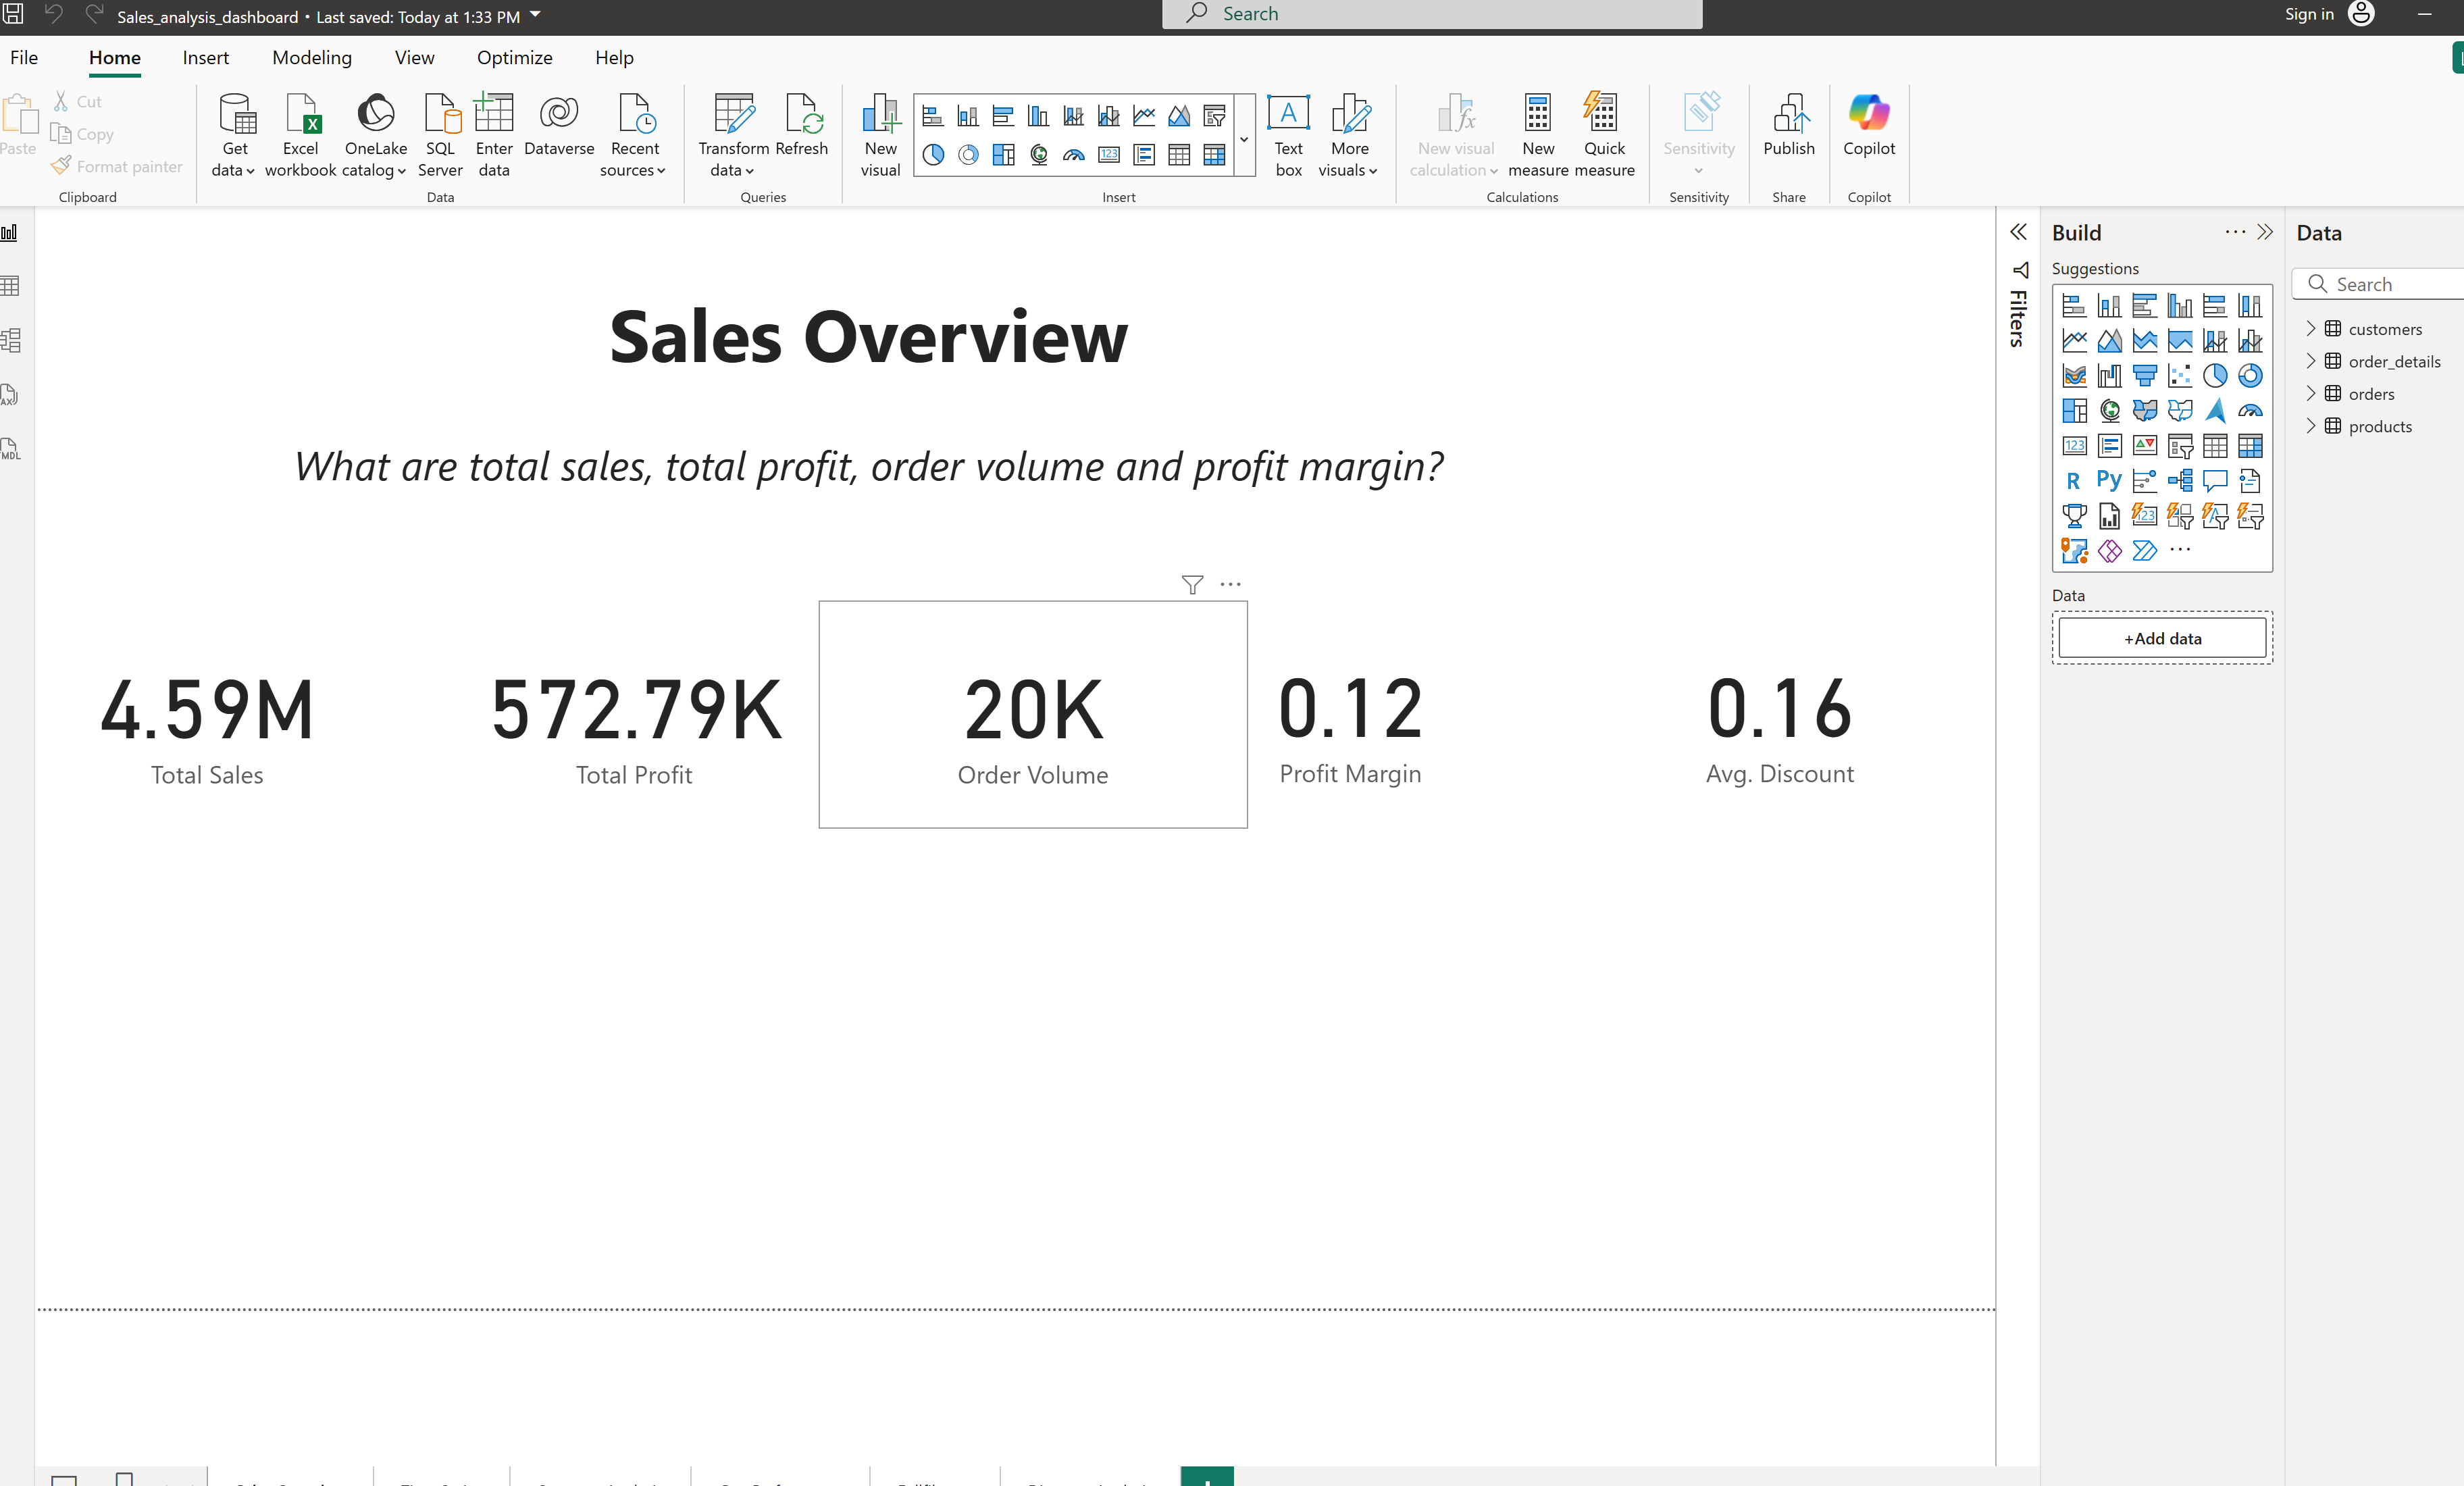

This screenshot's page, from the dashboard's own definition file:
{"tool":"powerbi","page":{"name":"Sales Overview","canvas":[1280,720],"ordinal":0},"visuals":[{"type":"card","fields":{"Values":["order_details.Total Sales"]},"box":[271,192,241,280],"z":0},{"type":"card","title":"Total Sales","fields":{"Values":["order_details.Total Sales"]},"box":[0,192,225,280],"z":1000},{"type":"card","fields":{"Values":["order_details.Avg. Discount"]},"box":[999.7,191.6,280.3,280.3],"z":2000},{"type":"card","fields":{"Values":["order_details.Profit Margin"]},"box":[719.3,191.6,280.3,280.3],"z":3000},{"type":"textbox","box":[0,437,280,280],"z":4000},{"type":"textbox","box":[98.1,45.1,967.5,162.7],"z":5000},{"type":"card","fields":{"Values":["order_details.Order Volume"]},"box":[511.8,257.4,280.3,149.6],"z":6000}]}

Visuals, with their boxes on the page's 1280x720 design canvas (x1, y1, x2, y2). These are canvas units, not pixel positions in the 2464x1486 screenshot, which may show the page scaled, cropped or inside an application window:
card - order_details.Total Sales: [271,192,512,472]
"Total Sales" card: [0,192,225,472]
card - order_details.Avg. Discount: [1000,192,1280,472]
card - order_details.Profit Margin: [719,192,1000,472]
textbox: [0,437,280,717]
textbox: [98,45,1066,208]
card - order_details.Order Volume: [512,257,792,407]
